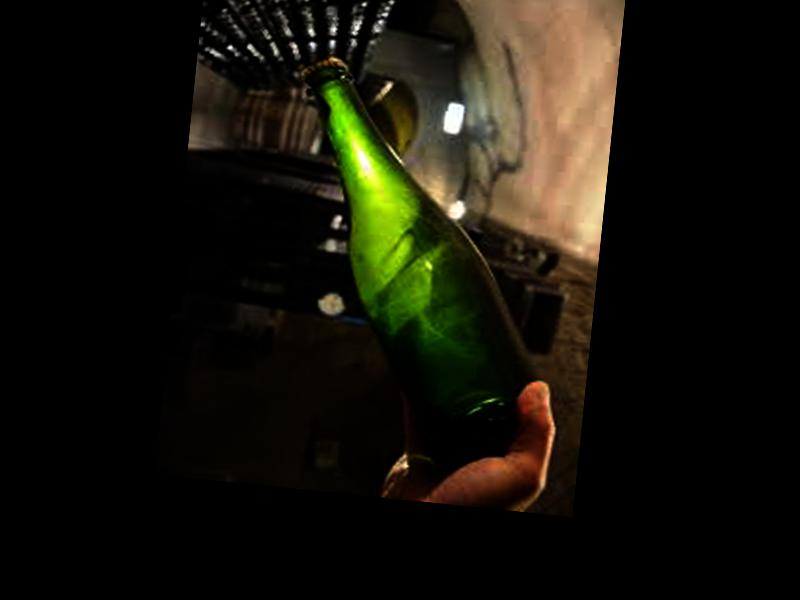Beer: (258, 52, 577, 474)
